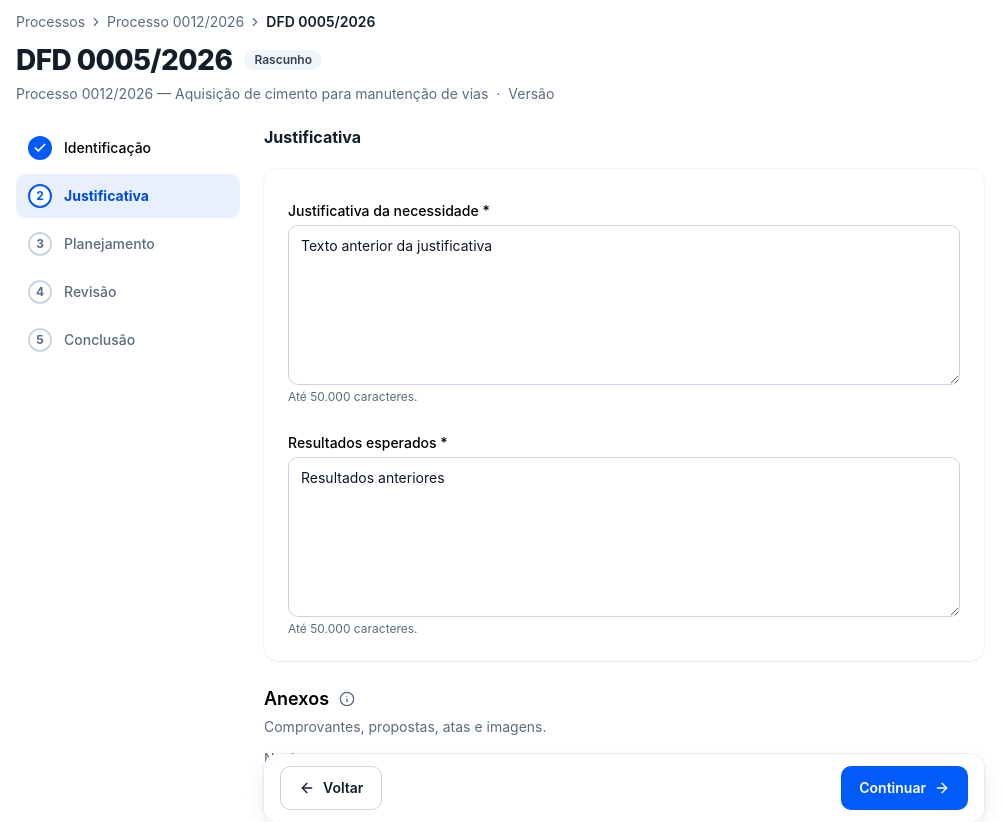
Test: SCR-007 — autosave, retomada e conflito (US-015) › [Validação] texto acima do limite: "Erro ao salvar" com a explicação e o conteúdo guardado neste navegador
The image size is (1002, 822).
Type " mais texto" into the text box labelled "Justificativa da necessidade *" at (624, 305), box [288, 225, 960, 385]
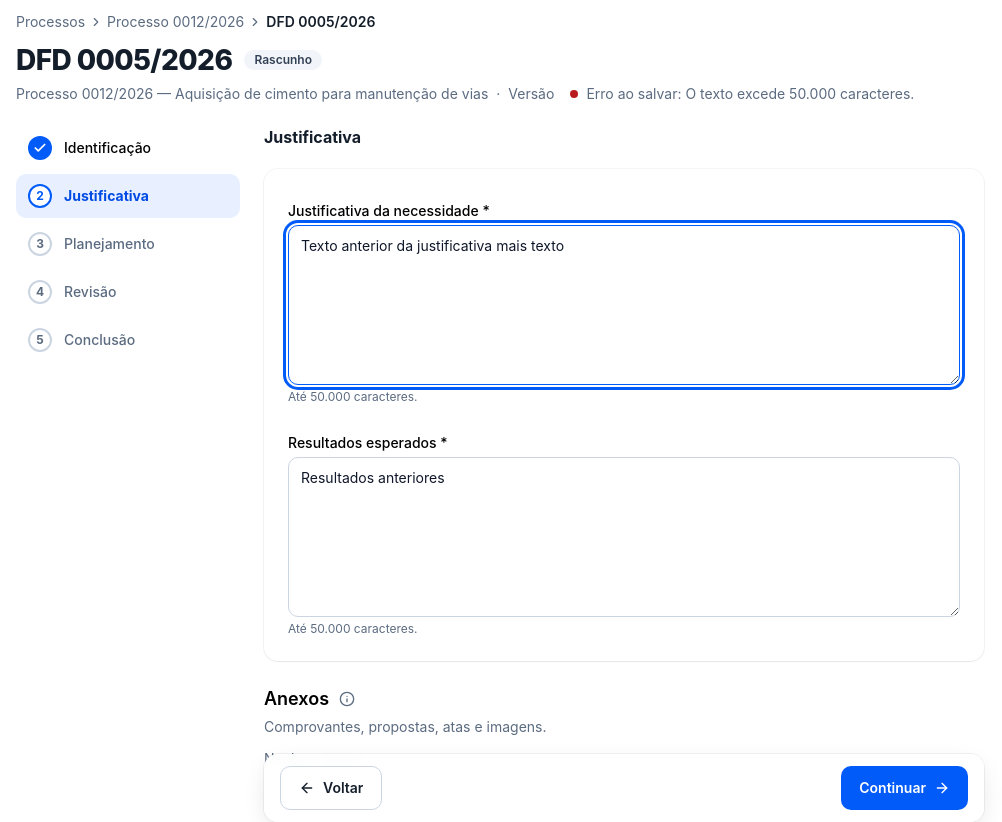
Now the text "Erro ao salvar: O texto excede 50.000 caracteres." is shown, box [586, 84, 914, 104]
